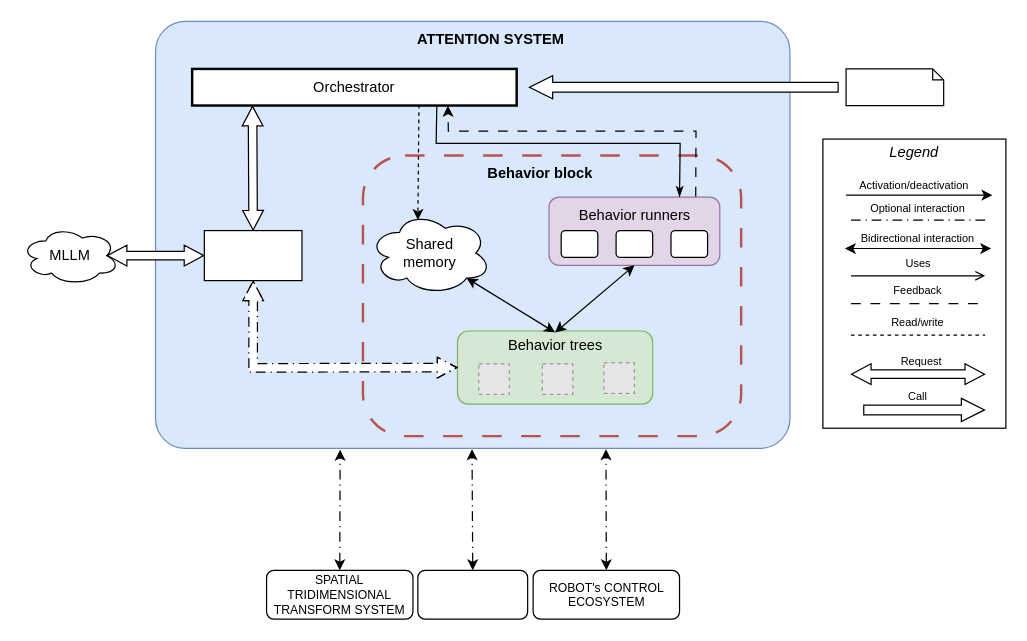
Some shapes in this 1027 by 641 pixel diagram are drawn without their labels. Grey dashed boxes stand in for pictures. Here are the shapes that lost their labels. From the top down, the box of each, then its label:
(845, 68, 944, 106): External request
(203, 229, 302, 281): Intelligence
(417, 569, 528, 619): OTHER SUBSYSTEMS
